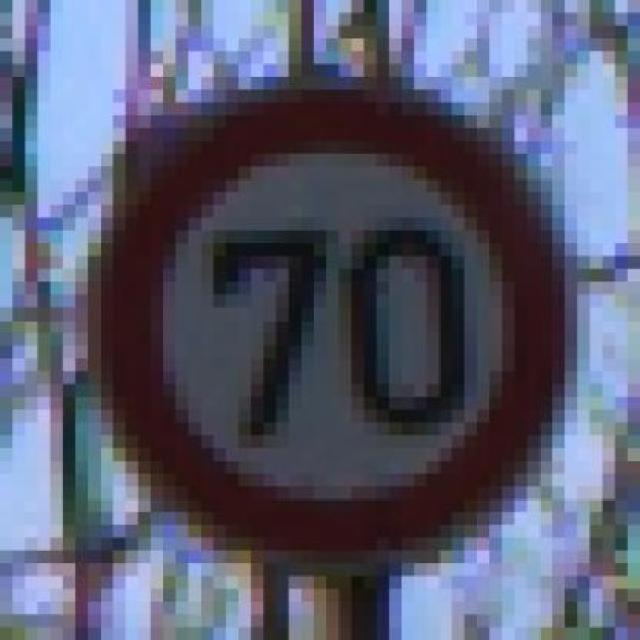forb_speed_over_70: (92, 86, 573, 560)
